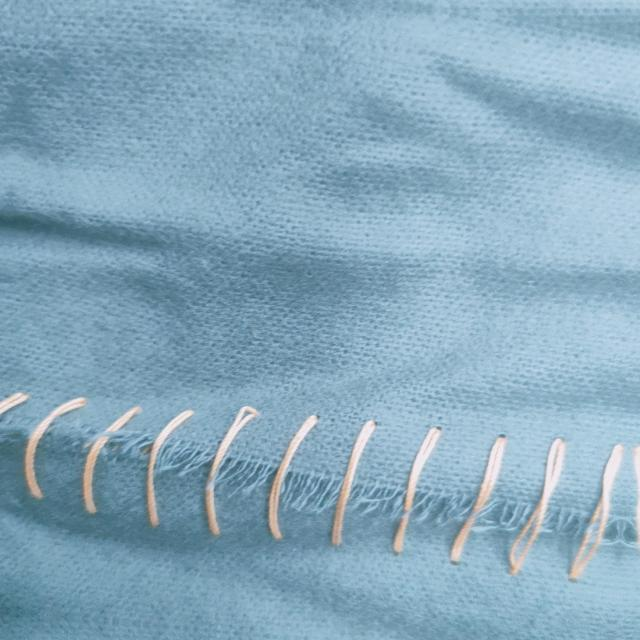gray stitch: (268, 408, 632, 586), (1, 386, 256, 542)
